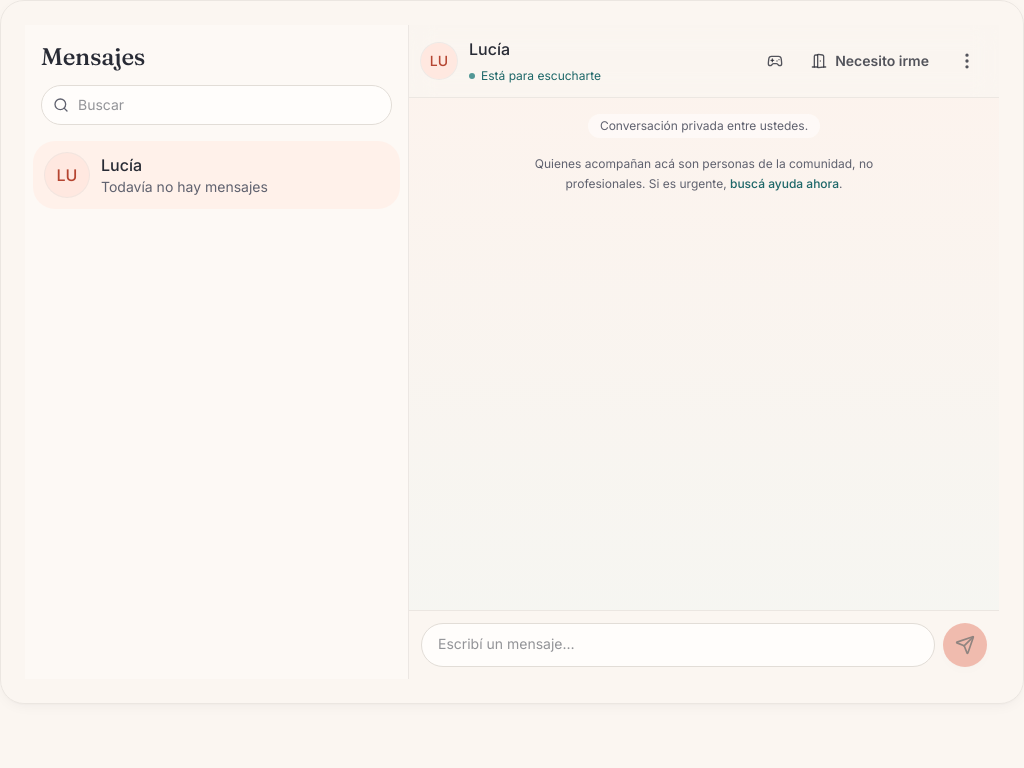
Test: chat safety › does not reveal anything when the profile is not visible (e.g. they blocked me)
Click the button named "Opciones de la conversación con Lucía": [967, 61] box [947,41,987,81]
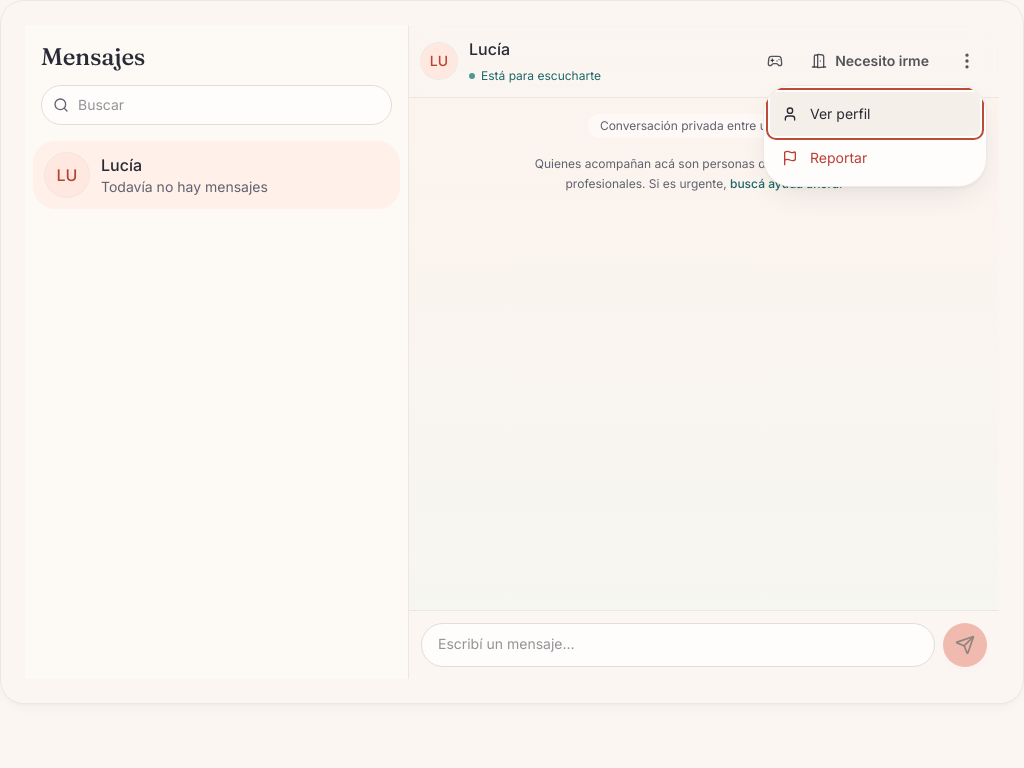
Expected: the text box with placeholder "Escribí un mensaje…" is shown, [421,623,935,667]
Now the menu items read "Ver perfil", "Reportar", in this order, box [770,92,980,136]; [770,136,980,180]
